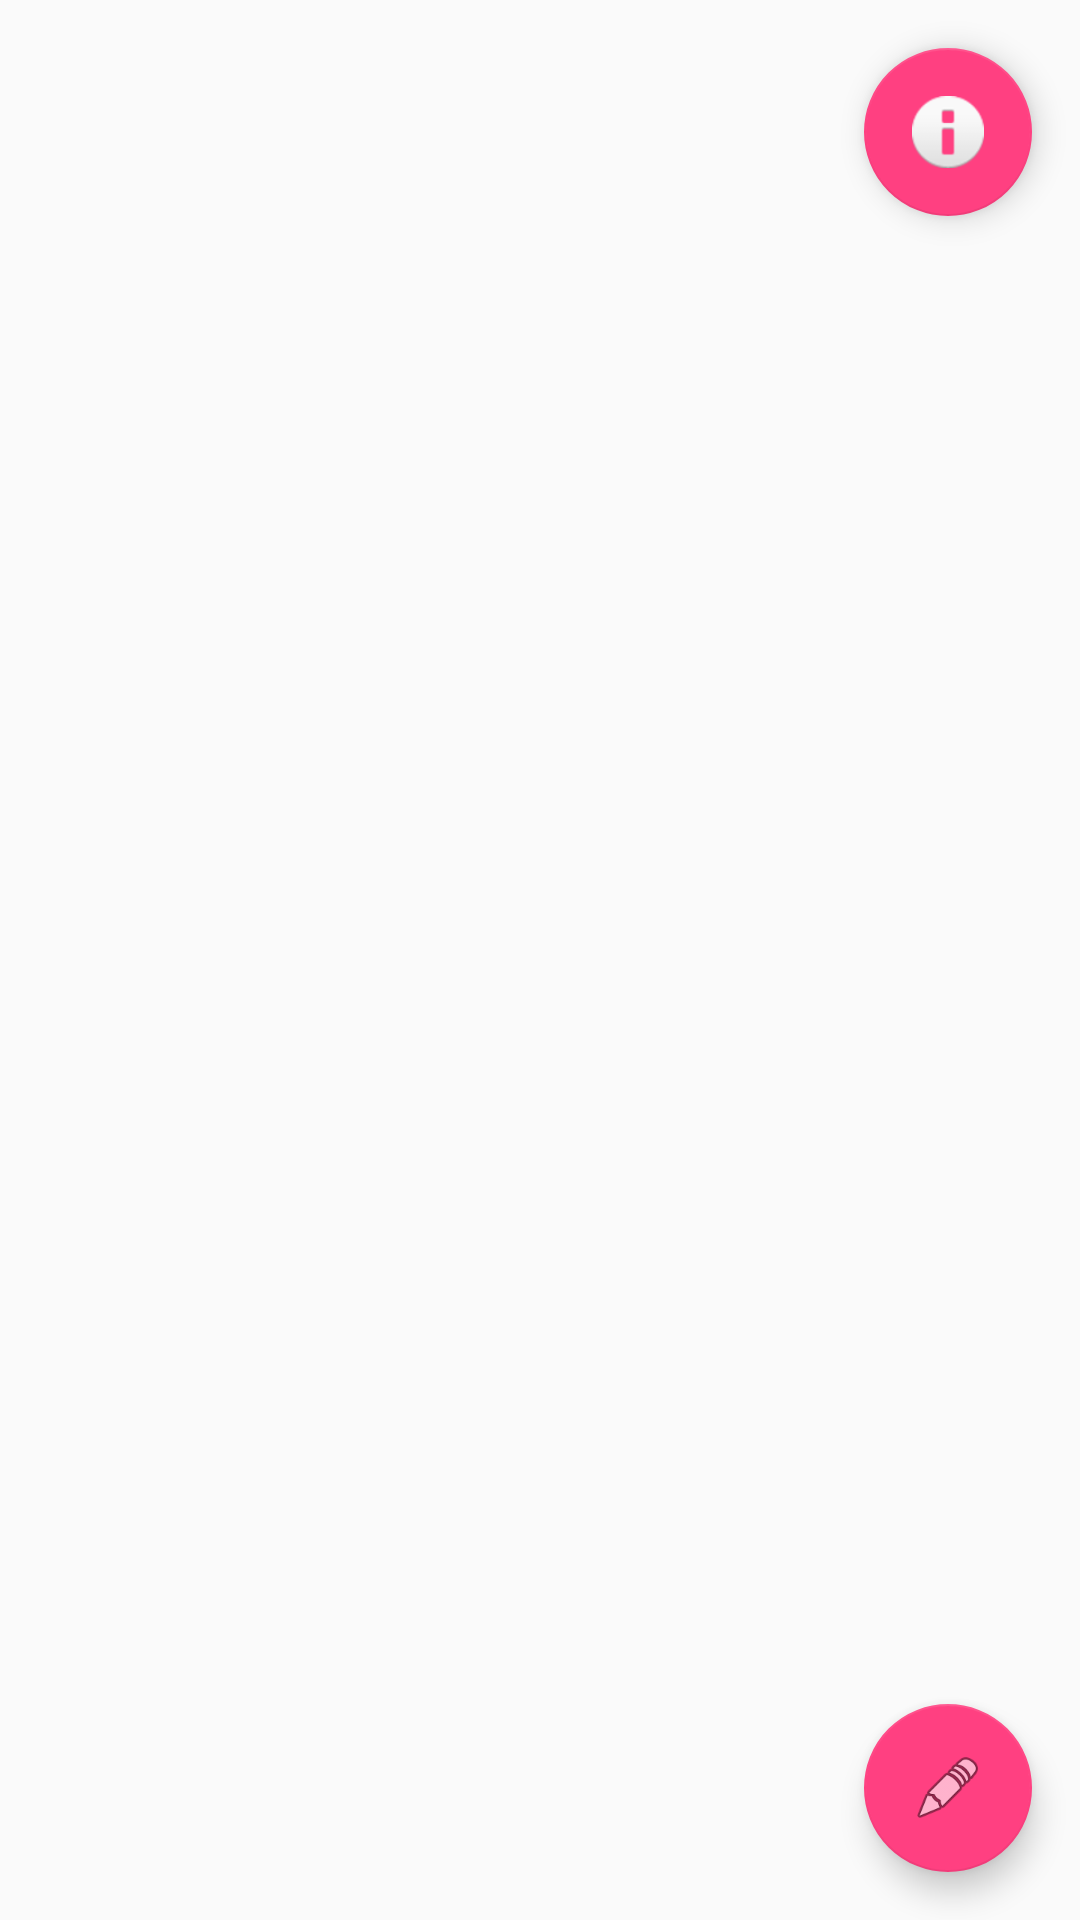

Icon bounding boxes for this 1080 x 1920 phone screenshot, format (x1, y1, x2, y2):
edit: (864, 1704, 1032, 1872)
info: (864, 48, 1032, 216)
